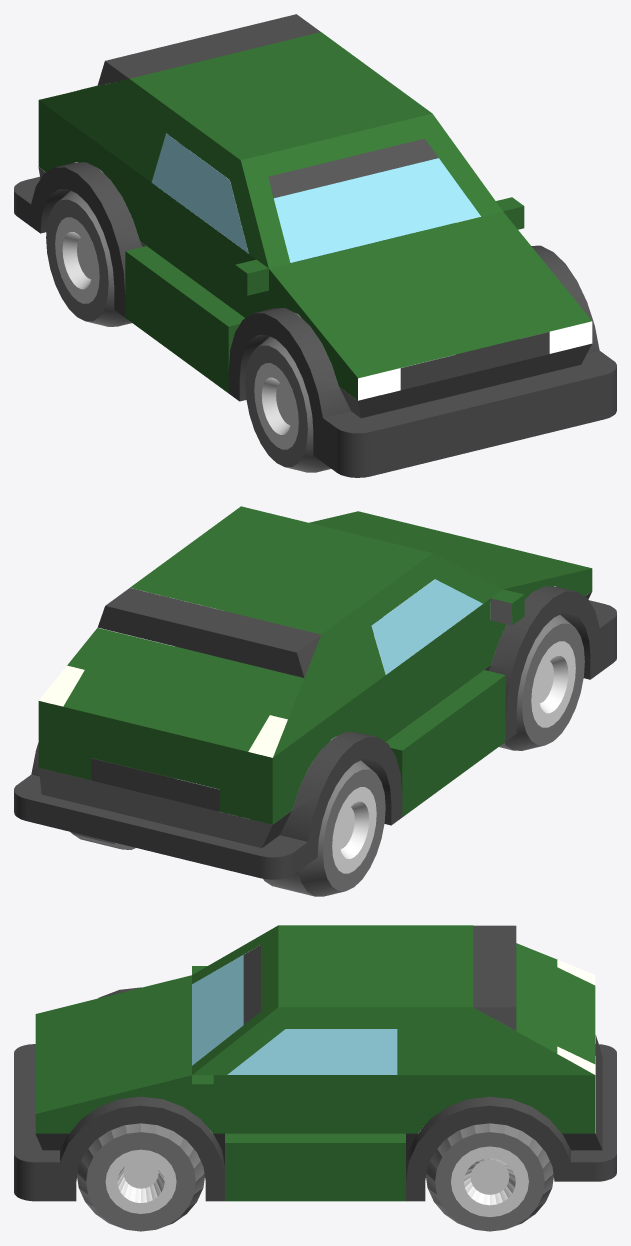
The model's file is hatchback.glb.
3 views of the same model, one above another, from view 1: azimuth 30°, elevation 25°; view 2: azimuth 150°, elevation 25°; view 3: azimuth 270°, elevation 25° (orthographic). The views are drawn at different scales.
Parts seen in each view (by area): view 1: body.004, wheel_frontRight.004, wheel_backRight.004; view 2: body.004, wheel_backRight.004, wheel_frontRight.004; view 3: body.004, wheel_frontLeft.004, wheel_backLeft.004.
Part boxes in pixels (x1,y1,x2,y2): body.004: (14,14,616,477); wheel_frontRight.004: (245,336,368,472); wheel_backRight.004: (46,191,141,326); body.004: (14,506,616,879); wheel_backRight.004: (263,759,385,896); wheel_frontRight.004: (490,602,584,750); body.004: (14,925,616,1201); wheel_frontLeft.004: (77,1123,204,1231); wheel_backLeft.004: (426,1123,553,1231).
Bounding box in the file's own units: 1.3 × 1.1 × 2.8.
